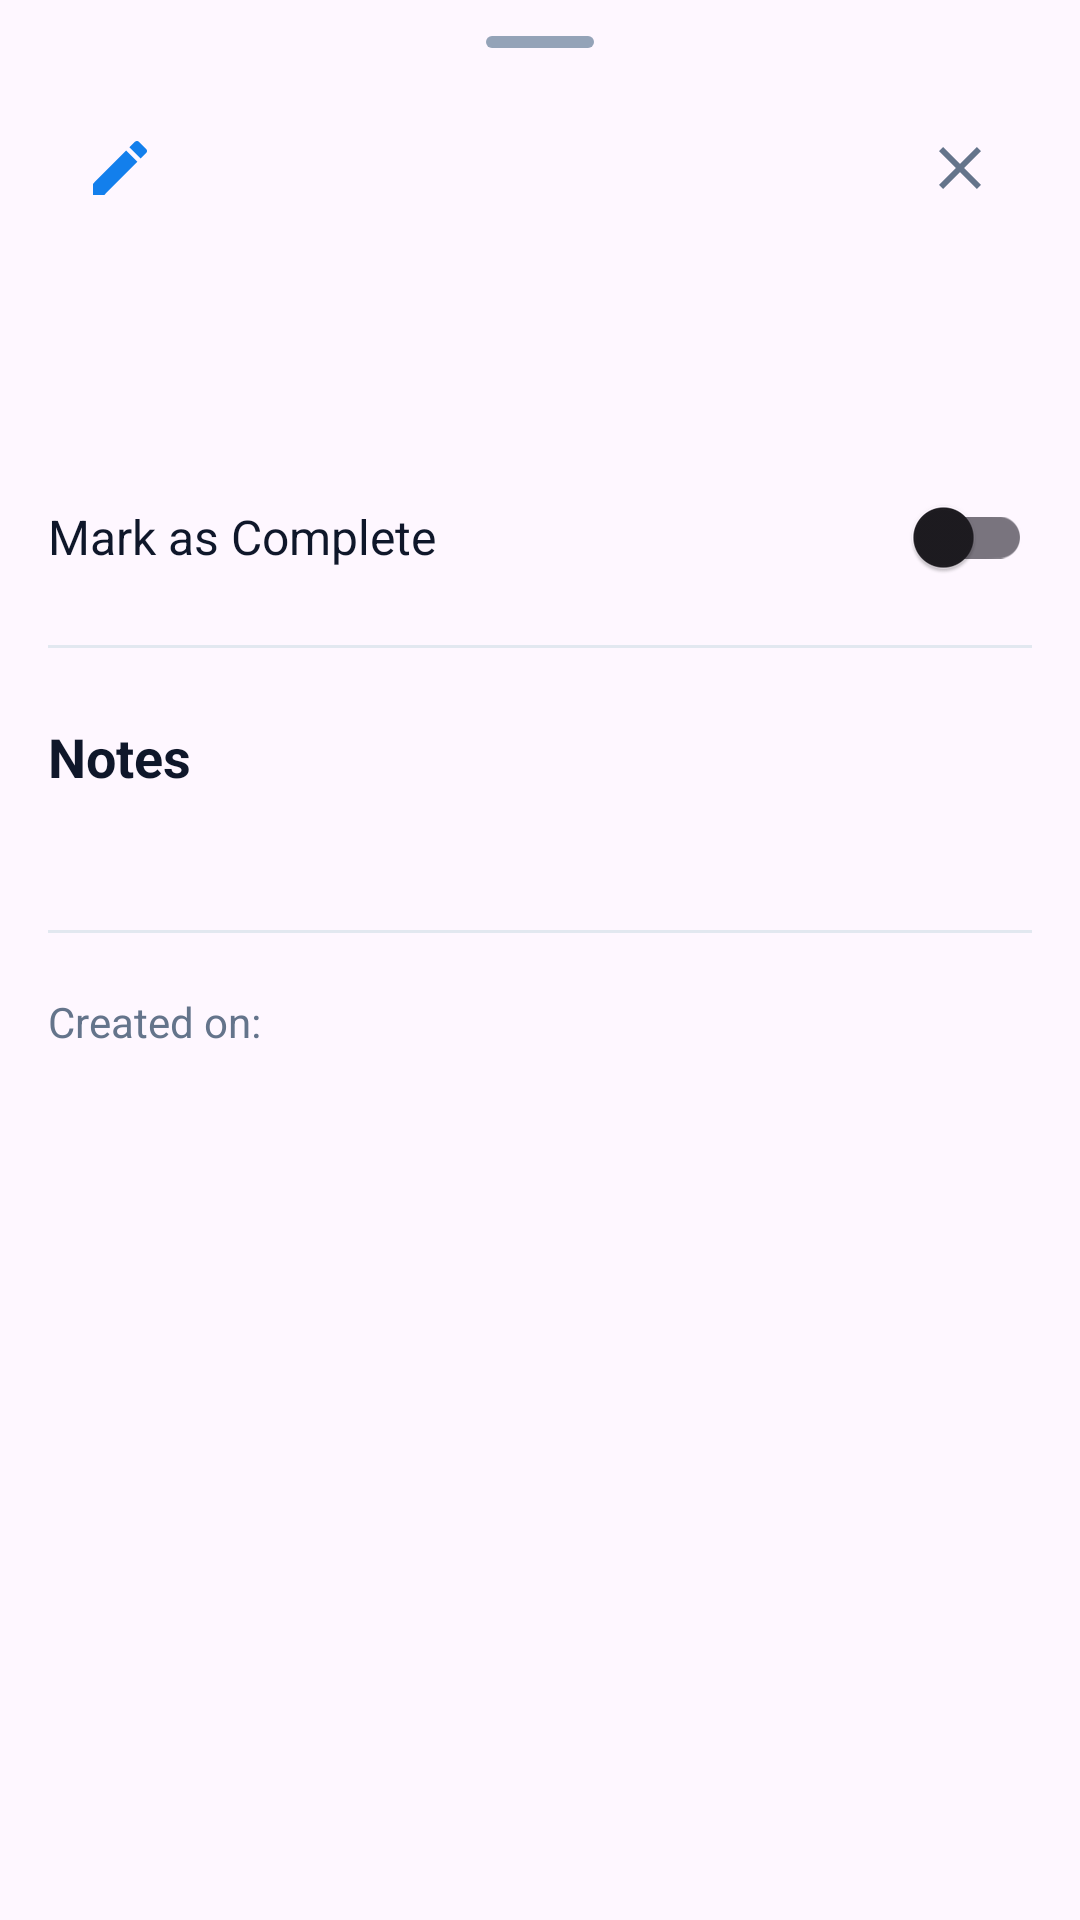

Where to tap for icons on this 1080*1920 app screen, as [x,y]:
Close: [960,168]
Edit task: [120,168]
